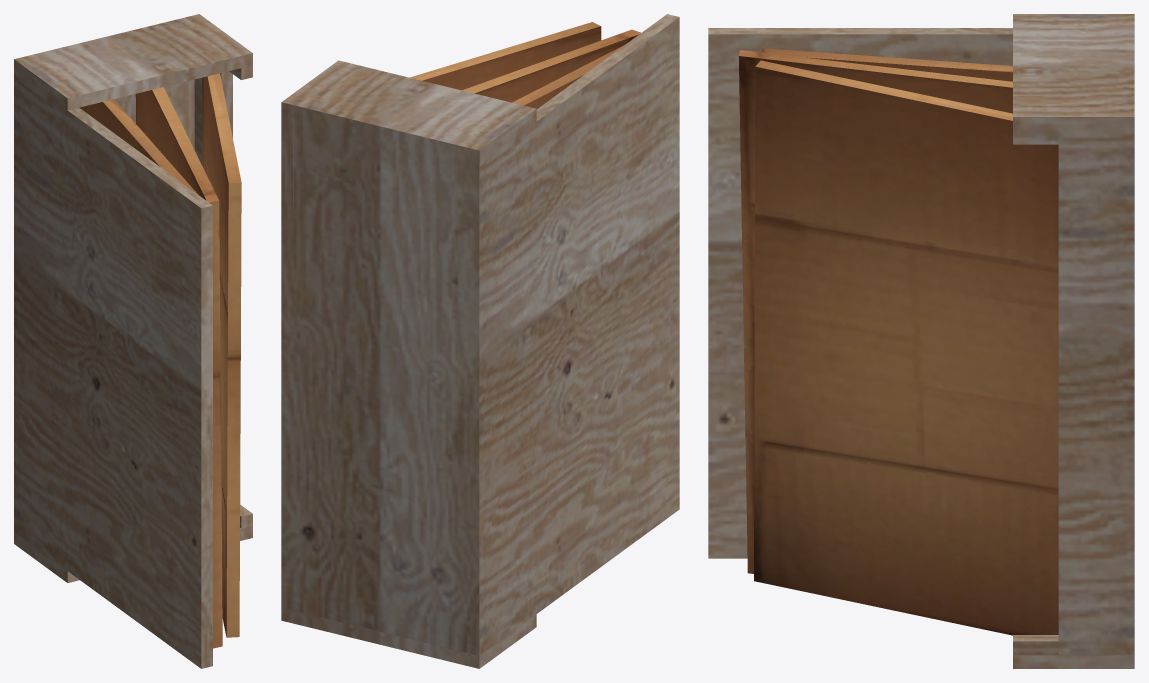
Rendered from box_holder_big.vmf.obj.
3 views of the same model, side by side, from view 1: azimuth 30°, elevation 25°; view 2: azimuth 150°, elevation 25°; view 3: azimuth 270°, elevation 25° (orthographic). The views are drawn at different scales.
Visible parts, largest first — view 1: 4, 9, 133, 6, 3, 5, 7, 2; view 2: 4, 3, 9, 7, 133, 2, 6, 5; view 3: 133, 7, 4, 9, 6, 5, 2, 10, 8.
Part boxes in pixels (x1=…): 4: x1=14, y1=75, x2=212, y2=668; 9: x1=14, y1=14, x2=252, y2=110; 133: x1=201, y1=73, x2=241, y2=637; 6: x1=135, y1=87, x2=222, y2=648; 3: x1=14, y1=71, x2=194, y2=536; 5: x1=79, y1=99, x2=197, y2=194; 7: x1=194, y1=71, x2=232, y2=163; 2: x1=14, y1=526, x2=252, y2=582; 4: x1=467, y1=14, x2=679, y2=655; 3: x1=293, y1=118, x2=486, y2=655; 9: x1=281, y1=60, x2=536, y2=163; 7: x1=281, y1=115, x2=293, y2=610; 133: x1=410, y1=22, x2=601, y2=90; 2: x1=281, y1=607, x2=536, y2=668; 6: x1=462, y1=29, x2=641, y2=102; 5: x1=512, y1=45, x2=624, y2=108; 133: x1=754, y1=60, x2=1058, y2=635; 7: x1=1058, y1=130, x2=1134, y2=655; 4: x1=708, y1=28, x2=1012, y2=558; 9: x1=1013, y1=14, x2=1134, y2=130; 6: x1=739, y1=50, x2=1012, y2=573; 5: x1=762, y1=48, x2=1012, y2=81; 2: x1=1013, y1=655, x2=1134, y2=668; 10: x1=1013, y1=635, x2=1058, y2=655; 8: x1=1013, y1=130, x2=1058, y2=144.
Bounding box in the file's own units: 16.01 × 40 × 28.
2 materials, 2 textured.
